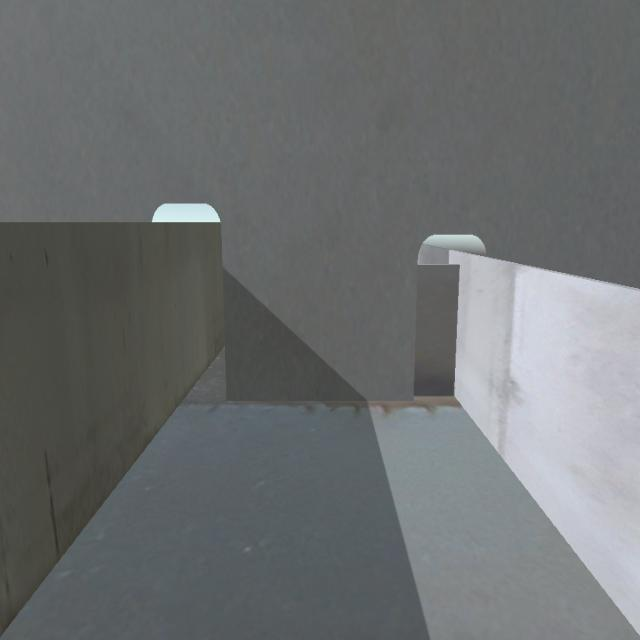fillet_yong_jeop_jang: (222, 393, 453, 402)
longi_yong_jeop_jang: (448, 261, 464, 403)
plate_behind: (416, 266, 458, 397)
